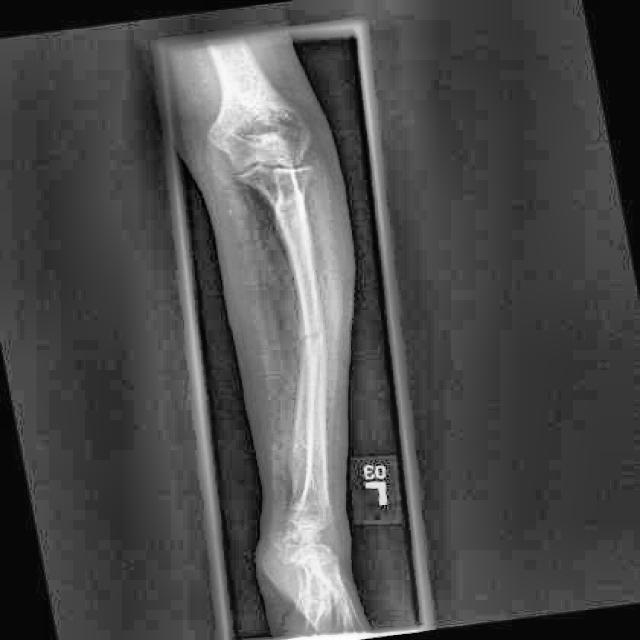forearm fracture: (276, 306, 341, 389)
